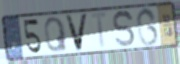5: (22, 19, 43, 55)
G: (135, 6, 161, 48)
Q: (43, 16, 69, 54)
S: (112, 9, 137, 49)
T: (89, 10, 111, 51)
V: (63, 12, 90, 53)
